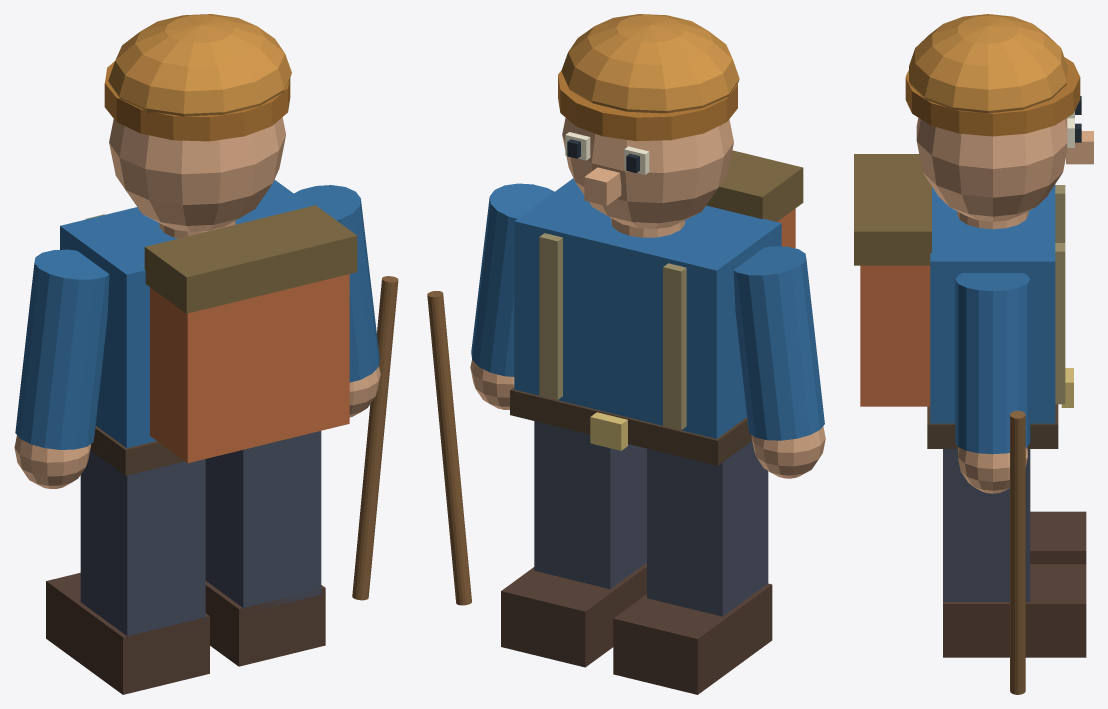
Rendered from hiker.glb.
The picture shows the model from 3 angles, left to right: view 1: azimuth 30°, elevation 25°; view 2: azimuth 150°, elevation 25°; view 3: azimuth 270°, elevation 25°; orthographic projection. The views are drawn at different scales.
Parts seen in each view (by area): view 1: Trouser leg (×2), Backpack, Sleeve (×2), Boot (×2), Backpack flap, Beanie, Shirt, Head, Walking stick, Beanie rim, Hand (×2), Belt; view 2: Shirt, Trouser leg (×2), Sleeve (×2), Boot (×2), Beanie, Head, Backpack shoulder strap (×2), Belt, Beanie rim, Walking stick, Backpack flap, Hand (×2) (+3 smaller); view 3: Shirt, Sleeve, Beanie, Boot (×2), Head, Backpack, Trouser leg, Backpack flap, Beanie rim, Walking stick, Backpack shoulder strap (×2), Hand (+3 smaller).
Boxes of the visible parts, <box> form: Trouser leg (×2): <box>80,431,321,636</box>; Backpack: <box>150,274,349,463</box>; Sleeve (×2): <box>15,185,379,449</box>; Boot (×2): <box>46,572,325,694</box>; Backpack flap: <box>144,205,357,313</box>; Beanie: <box>108,14,291,116</box>; Shirt: <box>60,179,310,447</box>; Head: <box>109,117,285,231</box>; Walking stick: <box>352,276,398,600</box>; Beanie rim: <box>104,61,290,141</box>; Hand (×2): <box>14,367,380,488</box>; Belt: <box>90,426,184,475</box>; Shirt: <box>514,178,781,438</box>; Trouser leg (×2): <box>534,421,768,616</box>; Sleeve (×2): <box>471,183,824,440</box>; Boot (×2): <box>501,563,772,694</box>; Beanie: <box>561,14,739,113</box>; Head: <box>562,118,733,229</box>; Backpack shoulder strap (×2): <box>539,233,686,430</box>; Belt: <box>510,387,752,465</box>; Beanie rim: <box>558,70,737,141</box>; Walking stick: <box>427,291,471,605</box>; Backpack flap: <box>706,150,803,221</box>; Hand (×2): <box>470,360,825,478</box>; Shirt: <box>930,184,1055,423</box>; Sleeve: <box>955,273,1030,454</box>; Beanie: <box>909,14,1067,113</box>; Boot (×2): <box>943,511,1086,657</box>; Head: <box>916,118,1067,221</box>; Backpack: <box>860,265,930,406</box>; Trouser leg: <box>943,449,1030,601</box>; Backpack flap: <box>854,154,931,265</box>; Beanie rim: <box>905,57,1080,136</box>; Walking stick: <box>1010,410,1025,694</box>; Backpack shoulder strap (×2): <box>1055,185,1065,404</box>; Hand: <box>958,447,1027,493</box>.
Size of the model in its own units: 1.35 by 2.07 by 0.769.
